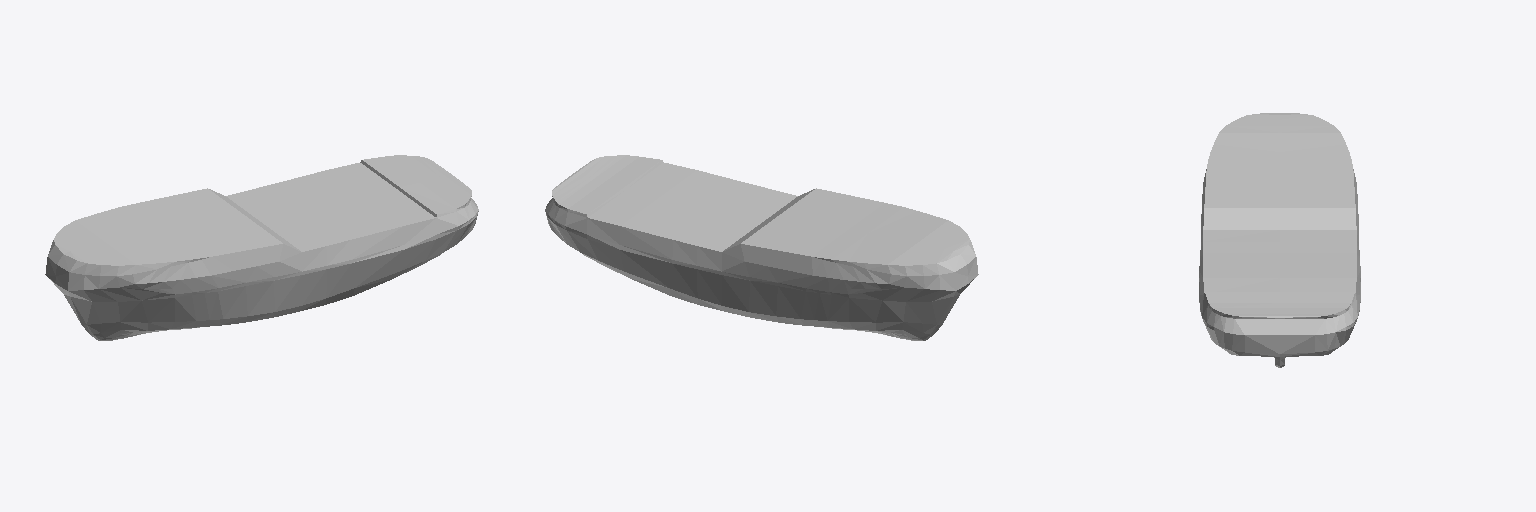
Rendered from cs_voyager_low_poly.obj.
3 views of the same model, side by side, from view 1: azimuth 30°, elevation 25°; view 2: azimuth 150°, elevation 25°; view 3: azimuth 270°, elevation 25° (orthographic).
Parts seen in each view (by area): view 1: LOW_POLY; view 2: LOW_POLY; view 3: LOW_POLY.
Boxes of the visible parts, box(x1,y1,x2,y2) form: LOW_POLY: box(45, 155, 478, 340); LOW_POLY: box(545, 155, 978, 340); LOW_POLY: box(1199, 113, 1360, 367).
Size of the model in its own units: 0.9924 by 0.2366 by 0.3463.